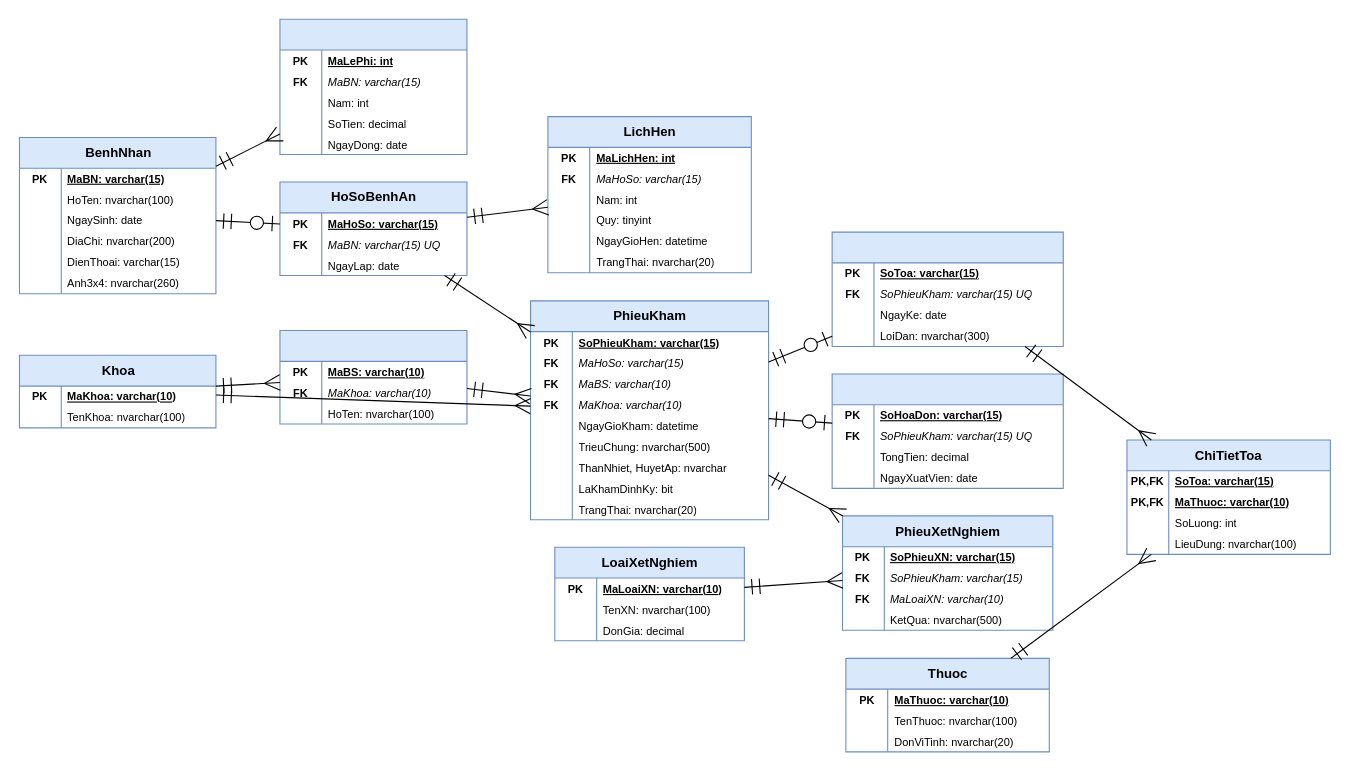
The diagram is 1350 pixels wide and 771 high, and some of its shapes have lost their labels. Each missing label, with the box of its shape:
BacSi: (279, 329, 467, 424)
HoaDonVienPhi: (831, 373, 1063, 488)
LePhiNam: (279, 18, 467, 155)
ToaThuoc: (831, 231, 1063, 346)
